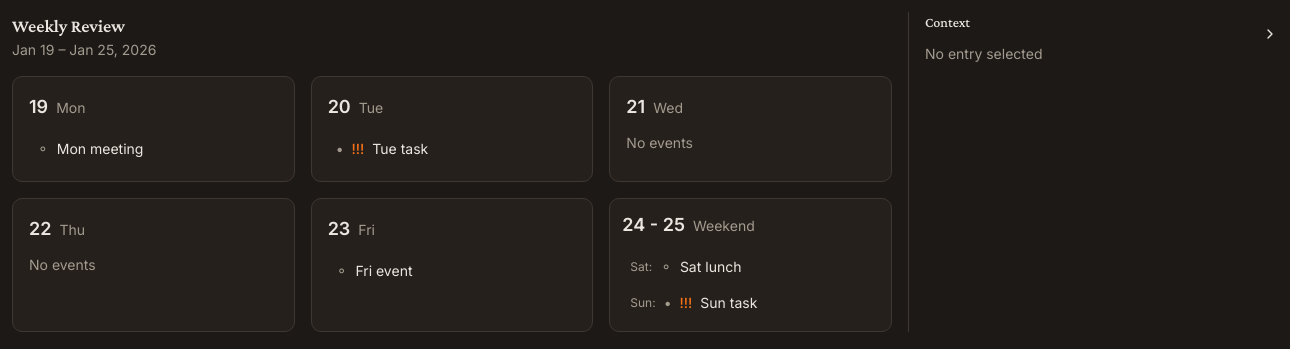
Test: WeekView › displays context tree from prop when entry selected
Click the text "Mon meeting" at (100, 148), box [57,140,143,157]
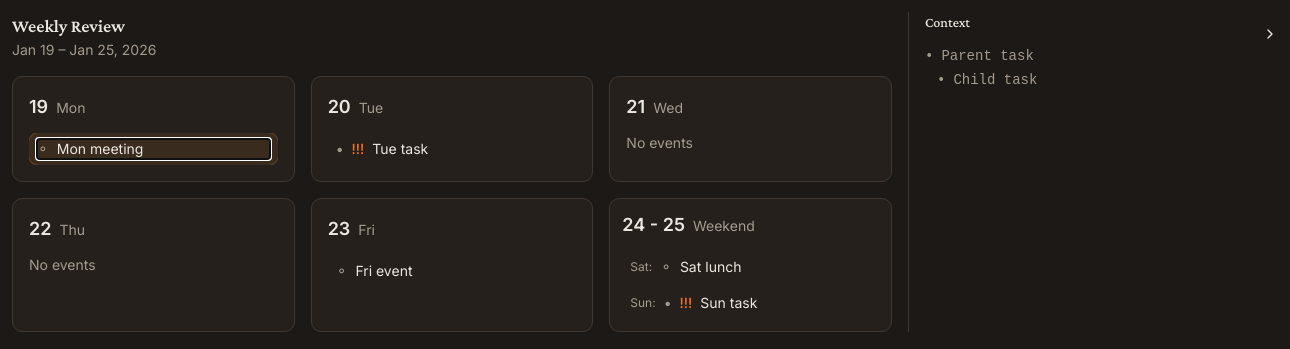
Expected: the text "Parent task" is shown, [941,46,1034,66]
Expected: the text "Child task" is shown, [953,70,1037,90]
